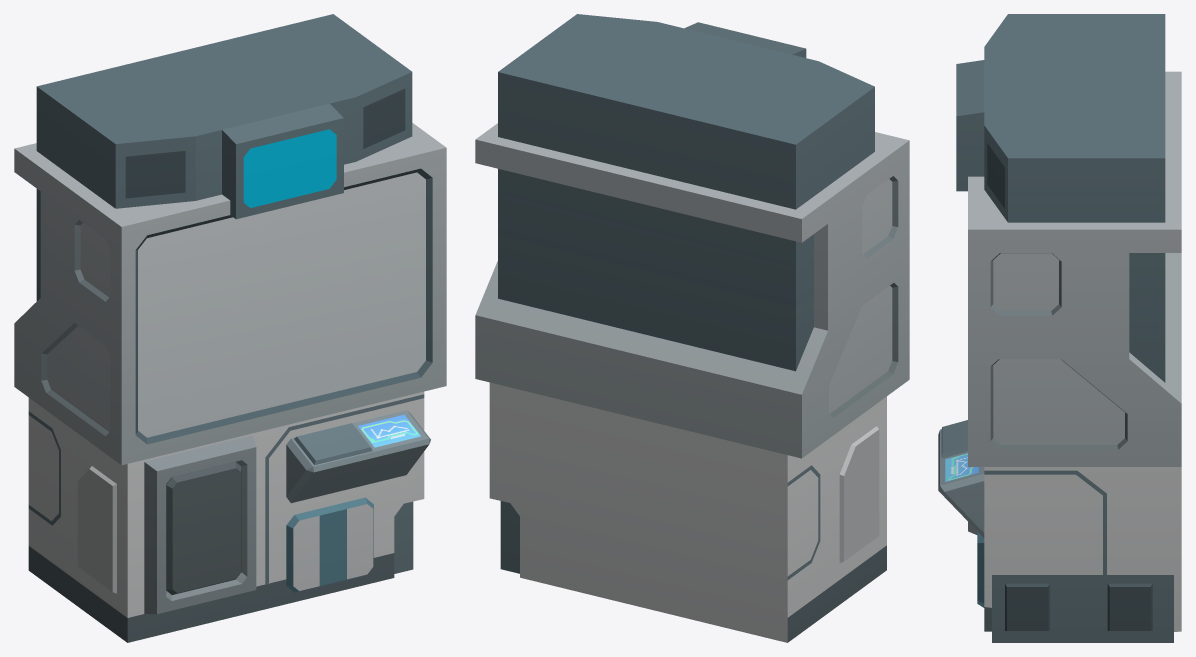
The model's file is Vending_Machine_002.fbx.
The picture shows the model from 3 angles, left to right: view 1: azimuth 30°, elevation 25°; view 2: azimuth 150°, elevation 25°; view 3: azimuth 270°, elevation 25°; orthographic projection.
Visible parts, largest first — view 1: Vending_Machine_002; view 2: Vending_Machine_002; view 3: Vending_Machine_002.
Part boxes in pixels (x1,y1,x2,y2): Vending_Machine_002: (14,14,446,642); Vending_Machine_002: (475,14,909,642); Vending_Machine_002: (938,14,1181,642).
Size of the model in its own units: 140 by 91.06 by 202.
